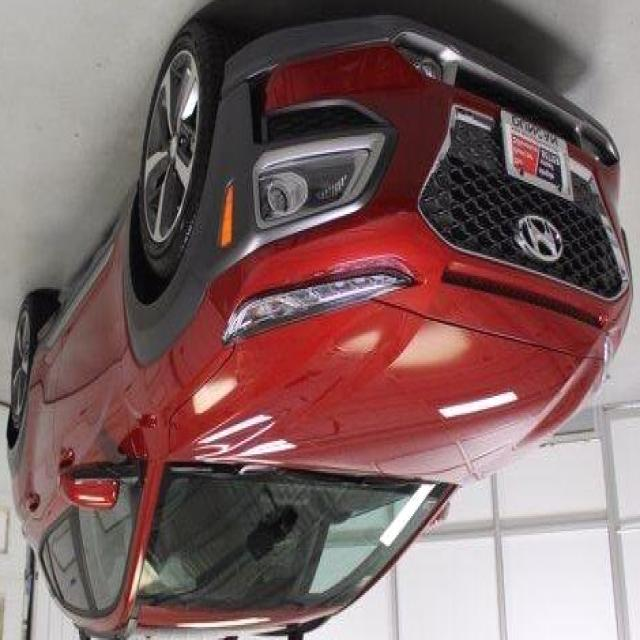red: (12, 6, 630, 640)
